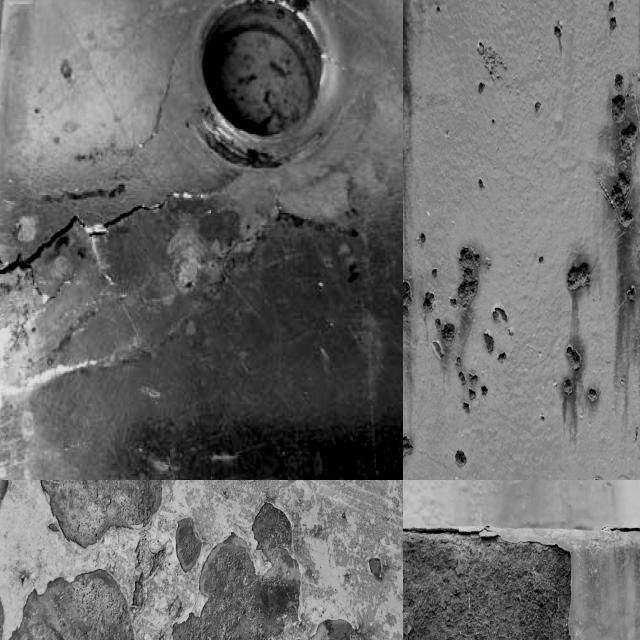Crack: (0, 200, 165, 274)
Pitting Corrosion: (403, 240, 514, 480), (403, 0, 427, 247), (454, 450, 467, 467)
Uniform Corrosion: (403, 528, 571, 640), (498, 528, 640, 640), (403, 480, 630, 528)
